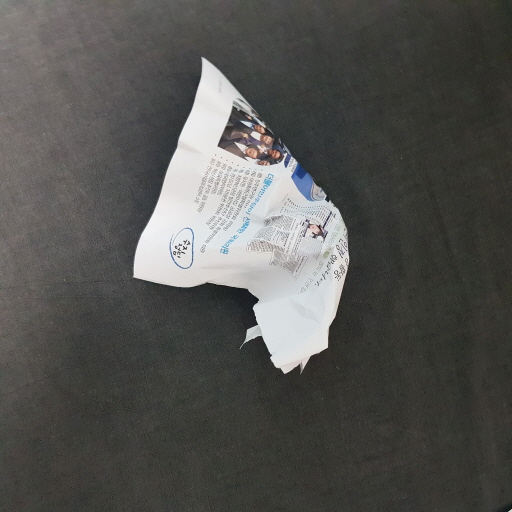Paper_3: (126, 53, 362, 384)
